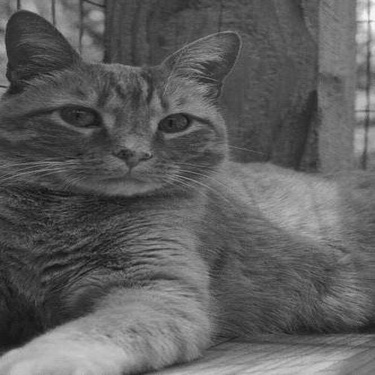cat: (3, 9, 370, 372)
